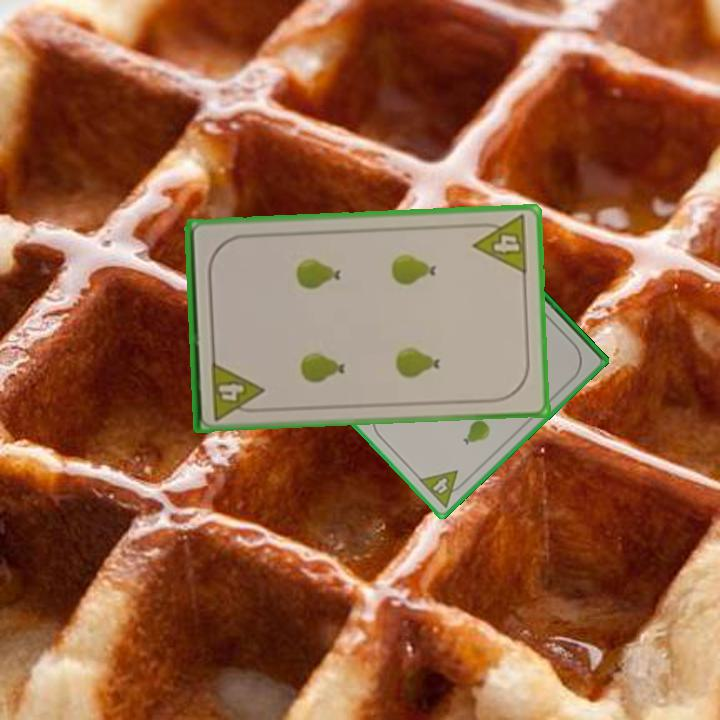4p: (469, 212, 531, 277), (207, 358, 266, 423), (415, 467, 470, 511)
